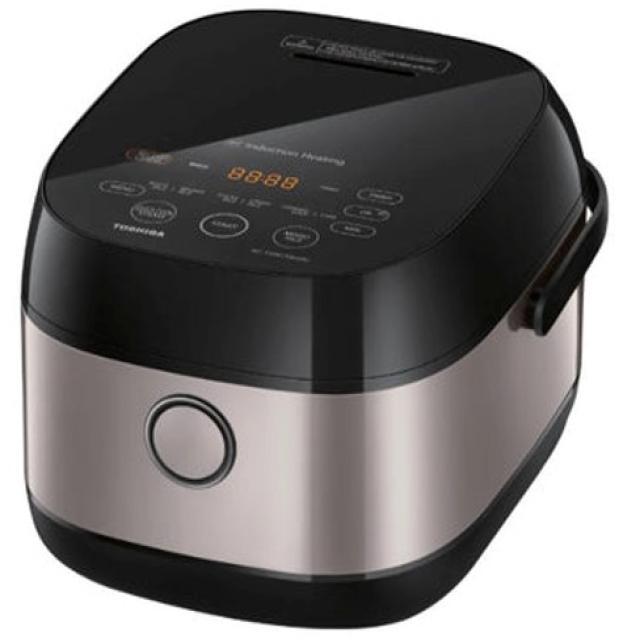appliances: (24, 12, 603, 623)
